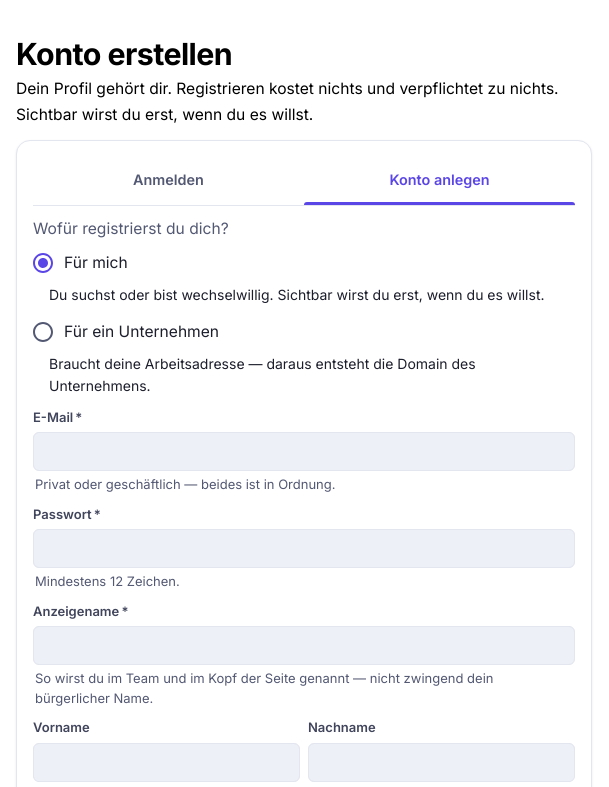
RegisterPage — Person oder Unternehmen › sagt sofort, dass ein Massenanbieter kein Unternehmen werden kann
Click the radio button labelled "Für ein Unternehmen" at (125, 332), box [31, 320, 219, 344]
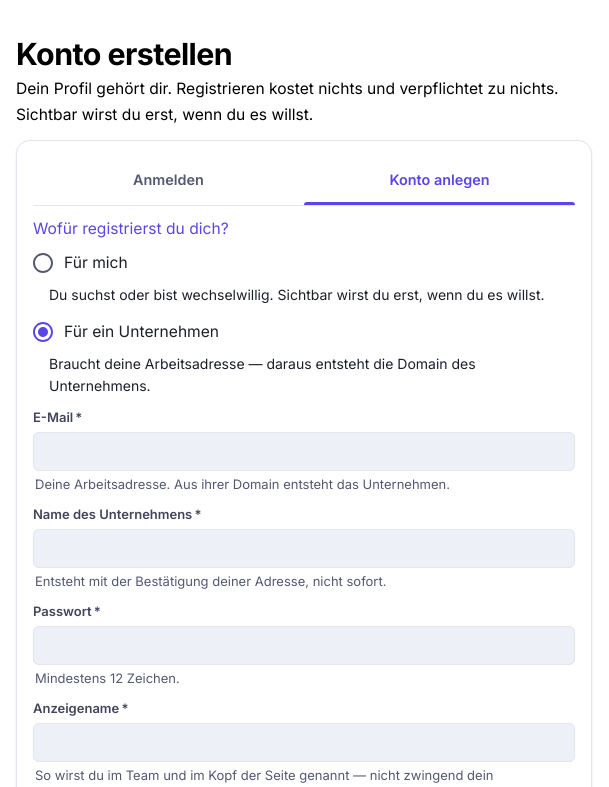
Type "max@gmail.com" into the field labelled "E-Mail *" at (304, 451), box [33, 432, 575, 471]
(page scrolled)
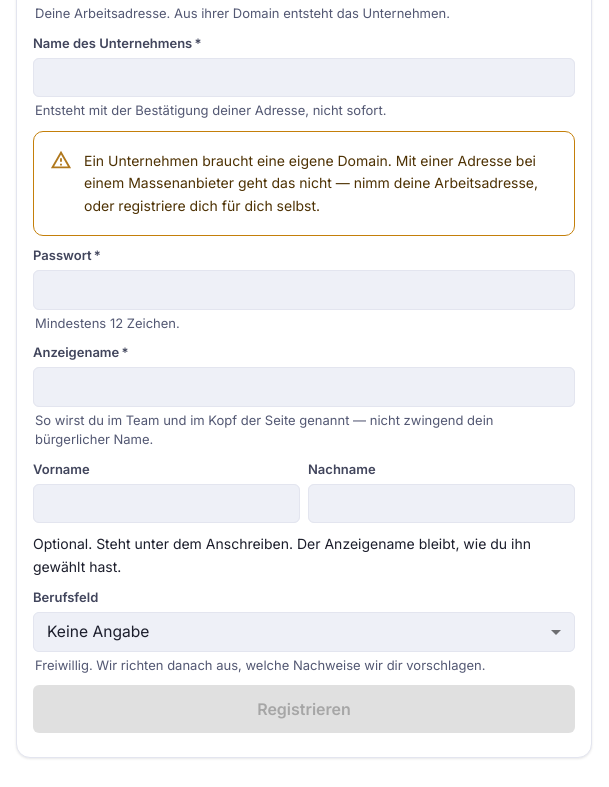
Expected: the button "Registrieren" is disabled, [33, 685, 575, 733]
Now the message shows "Ein Unternehmen braucht eine eigene Domain.", box [84, 152, 538, 214]
